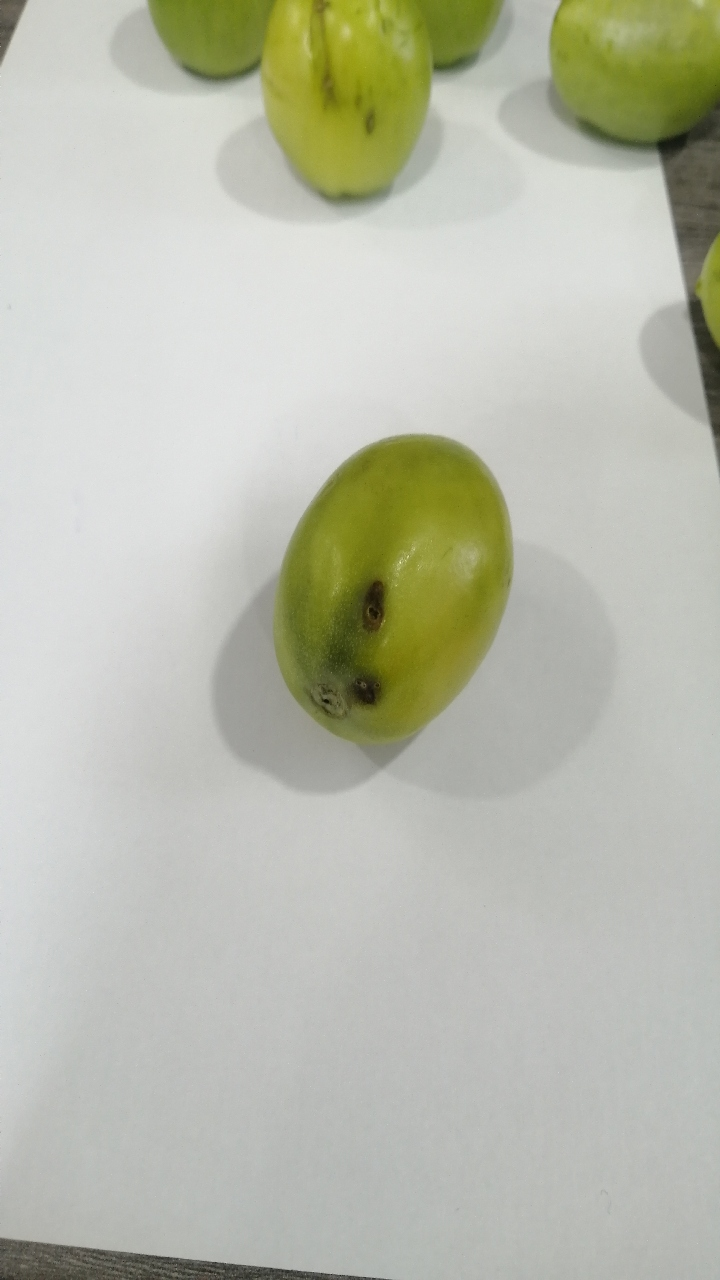tomateVerde: (260, 403, 544, 785)
